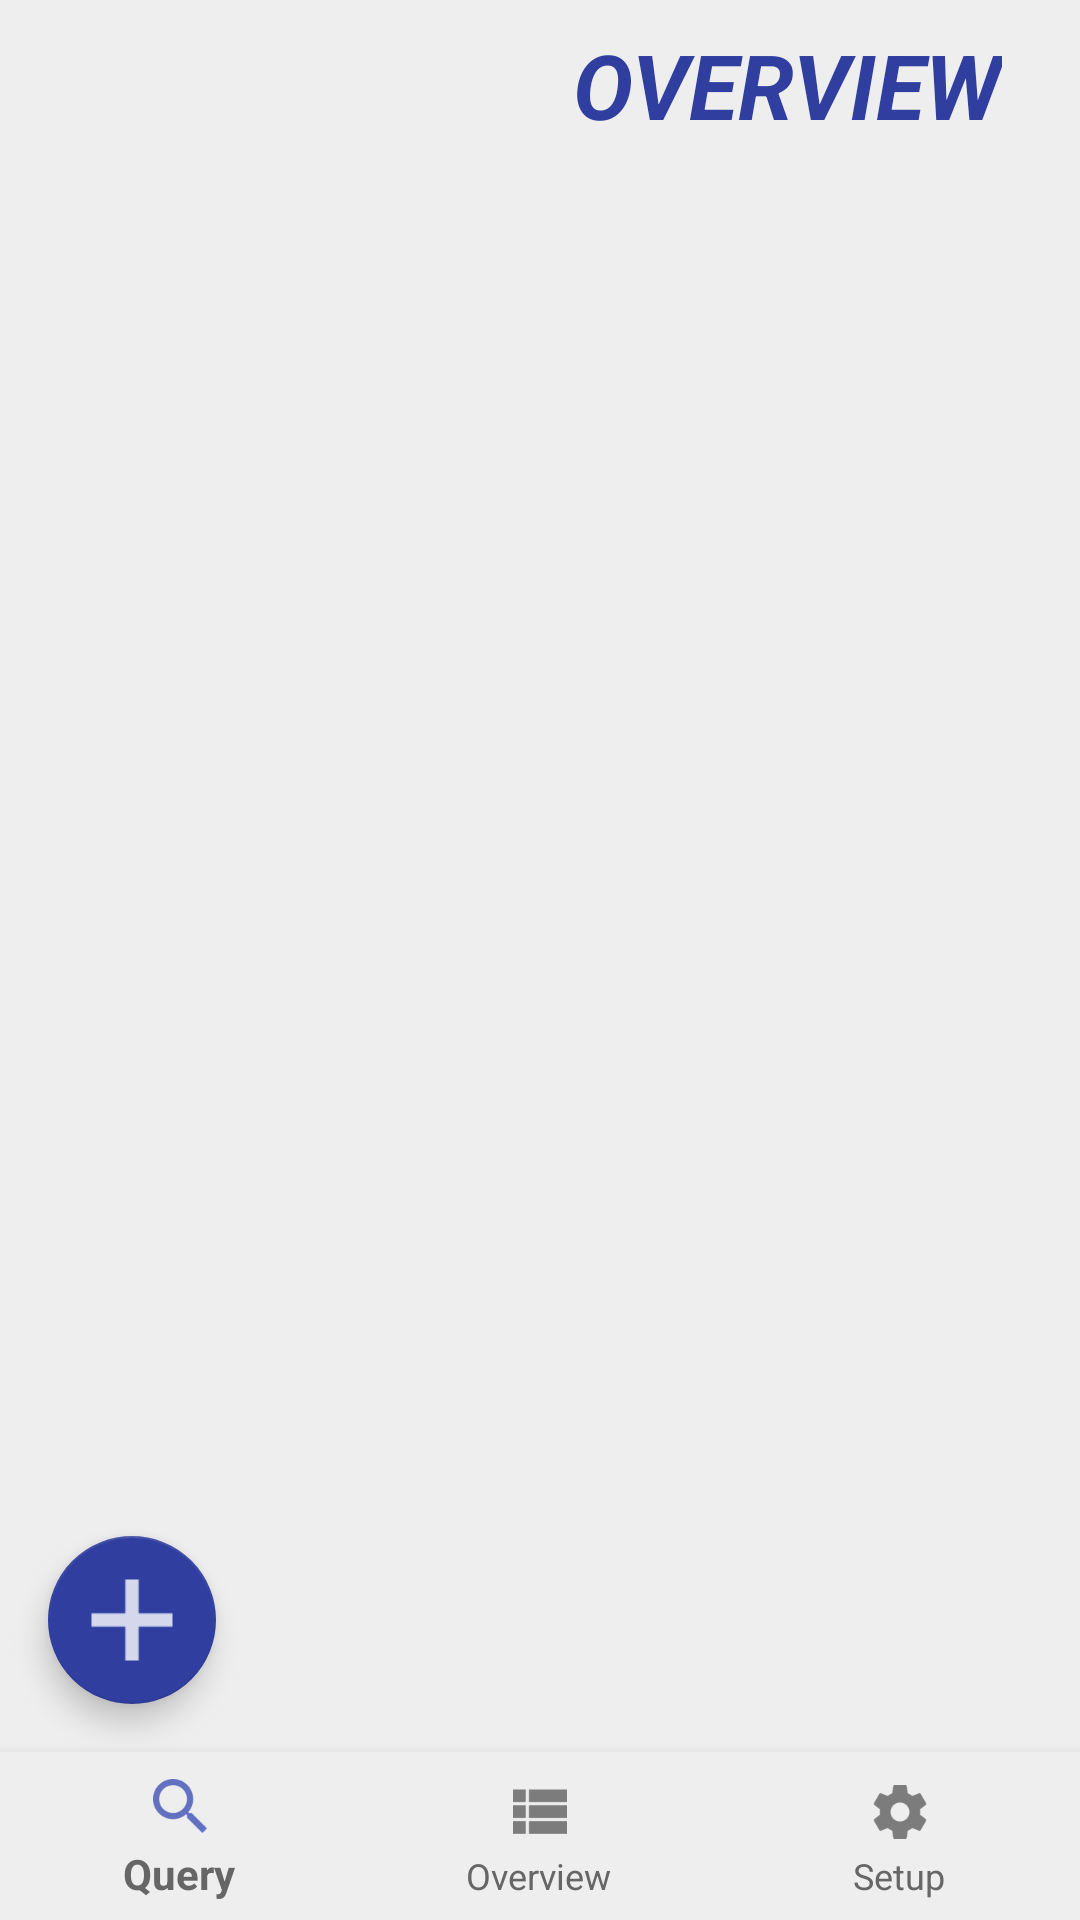

Icons on this 1080×1920 Android screen, each with its box as BBox(x1, y1, x2, y2):
plus sign: BBox(48, 1536, 216, 1704)
